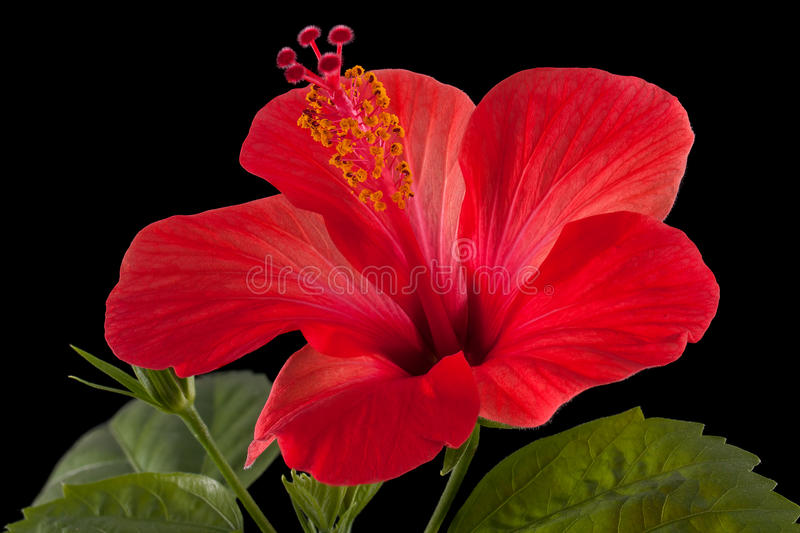Hibiscus: (107, 13, 722, 461)
